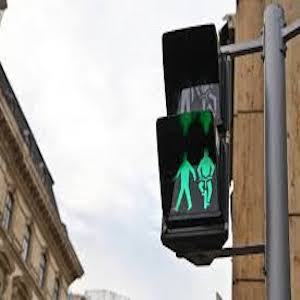green: (171, 150, 222, 208)
